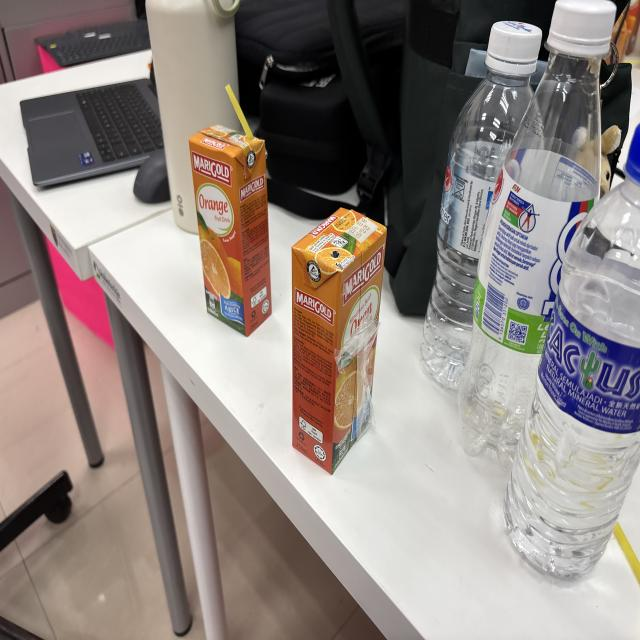drink_carton: (282, 199, 401, 485), (184, 76, 278, 345)
plastic_bottle: (455, 0, 613, 481), (501, 113, 640, 603), (419, 16, 548, 413)
